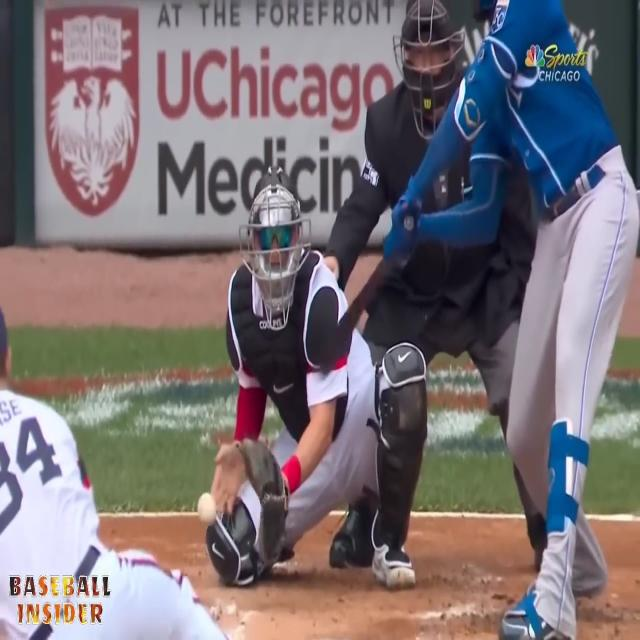baseball: (197, 492, 217, 526)
